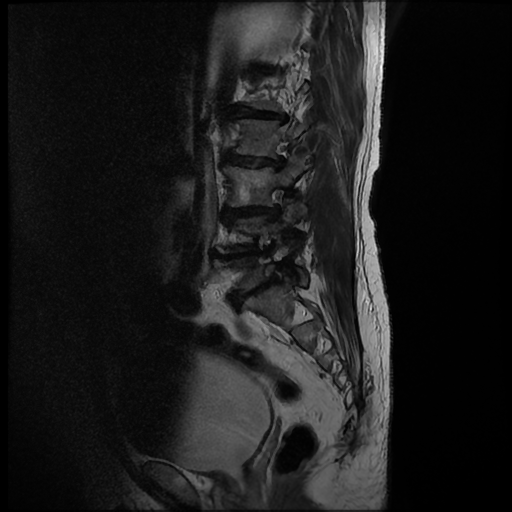RFS1: (261, 178, 291, 221), (263, 136, 295, 173)
RFS3: (256, 258, 292, 293)
